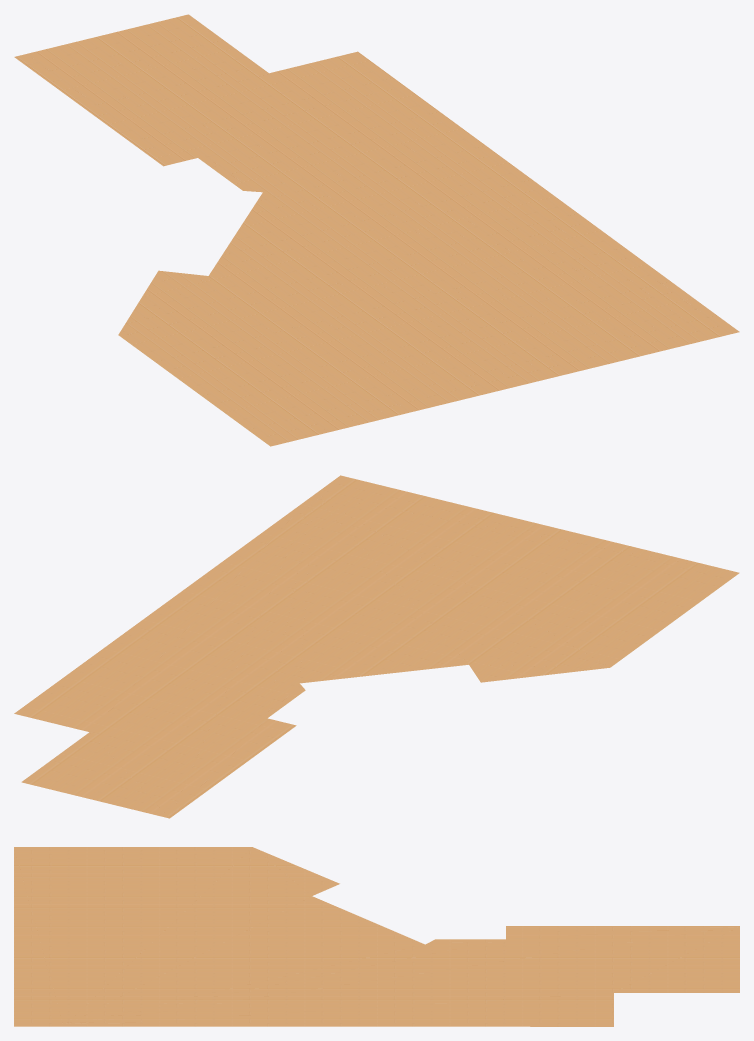
File: floorLeft.fbx
3 renders of one model, top to bottom at view 1: azimuth 30°, elevation 25°; view 2: azimuth 150°, elevation 25°; view 3: azimuth 270°, elevation 25°, orthographic. The views are drawn at different scales.
Visible parts, largest first — view 1: polySurface240; view 2: polySurface240; view 3: polySurface240.
Part boxes in pixels (x1=…): polySurface240: x1=14, y1=14, x2=739, y2=446; polySurface240: x1=14, y1=475, x2=739, y2=818; polySurface240: x1=14, y1=847, x2=739, y2=1026.
Bounding box in the file's own units: 17.13 × 0 × 29.24.
Materials: 1 (1 with a texture image).
